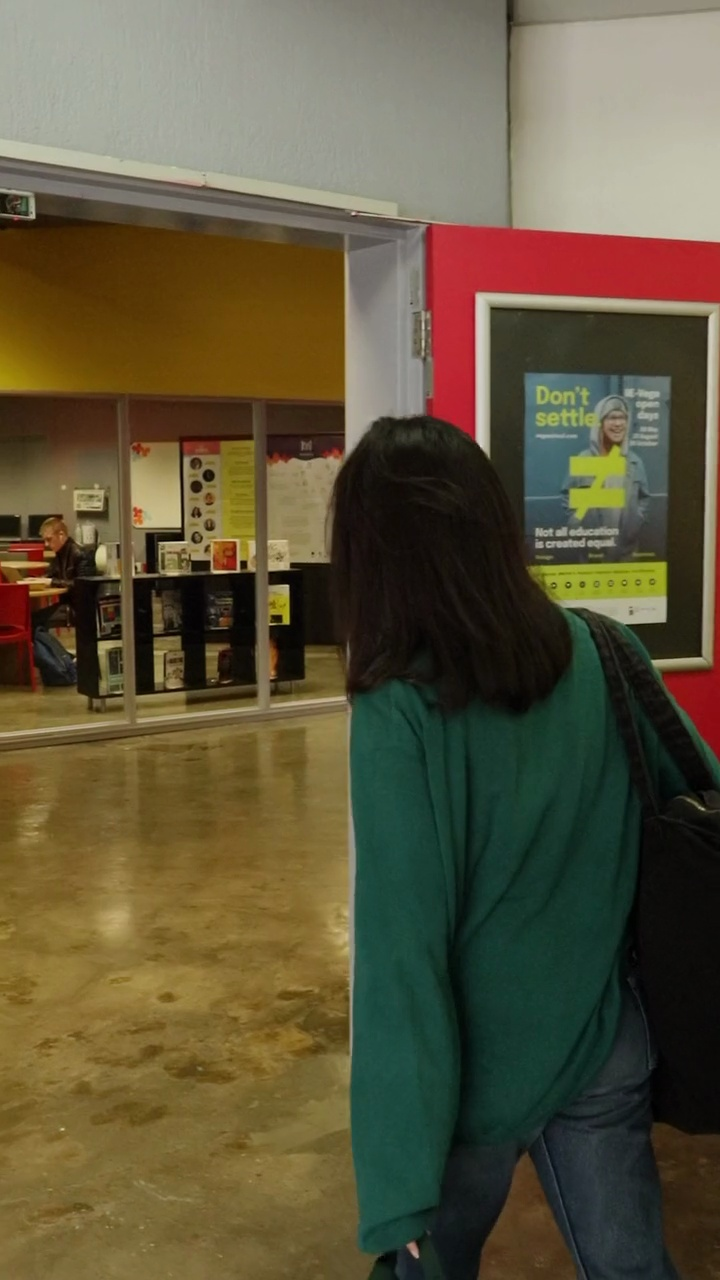dates_box: (134, 568, 256, 695)
electronics: (23, 129, 297, 726), (481, 281, 720, 768), (0, 545, 52, 697)
perfume_bottle: (0, 0, 522, 448), (366, 0, 720, 576)
